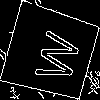W: (25, 27, 83, 85)
